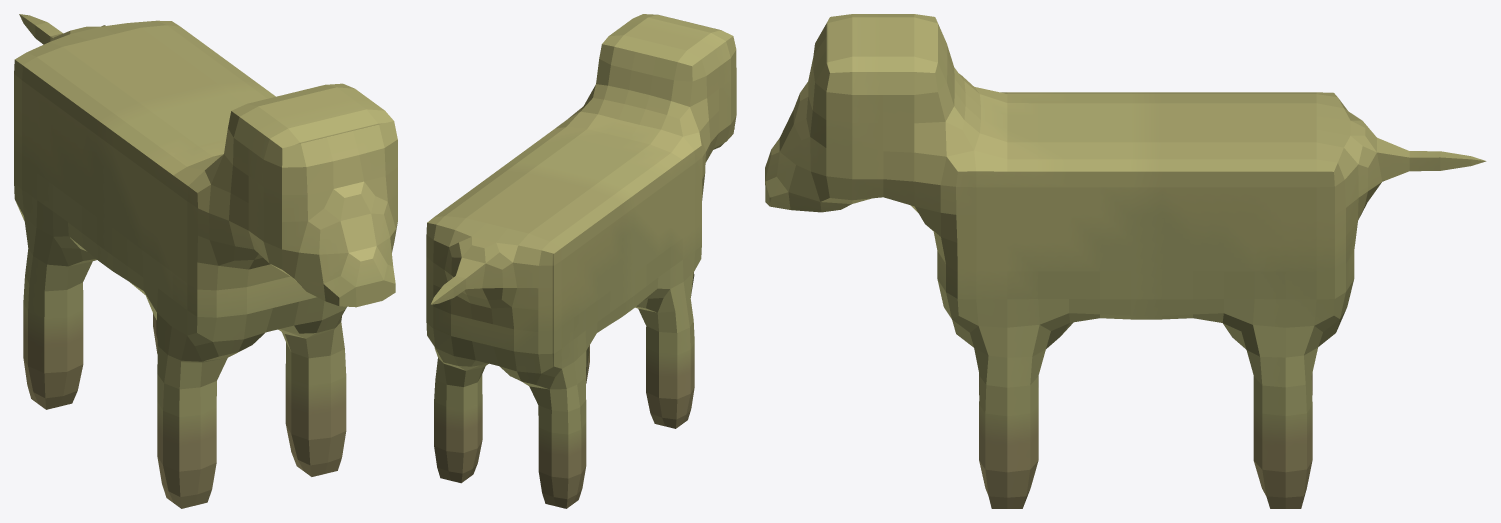
Rendered from hellHound.glb.
3 views of the same model, side by side, from view 1: azimuth 30°, elevation 25°; view 2: azimuth 150°, elevation 25°; view 3: azimuth 270°, elevation 25° (orthographic). The views are drawn at different scales.
Parts seen in each view (by area): view 1: geometry_0; view 2: geometry_0; view 3: geometry_0.
Boxes of the visible parts, bbox=[...] form: geometry_0: bbox=[14, 14, 397, 508]; geometry_0: bbox=[426, 14, 736, 508]; geometry_0: bbox=[765, 14, 1486, 508].
Bounding box in the file's own units: 0.4437 × 1 × 1.51.
1 material, 1 textured.
